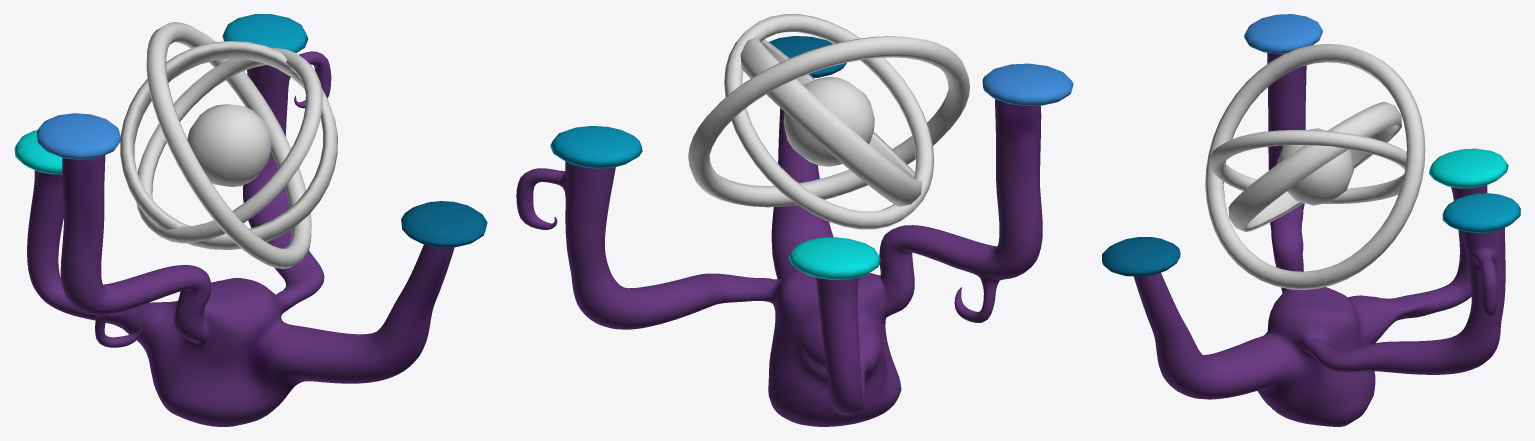
Rendered from Game_base_blockout2.fbx.
3 renders of one model, left to right at view 1: azimuth 30°, elevation 25°; view 2: azimuth 150°, elevation 25°; view 3: azimuth 270°, elevation 25°, orthographic. The views are drawn at different scales.
Visible parts, largest first — view 1: Cylinder, Torus, Quad Sphere 3, Quad Sphere; view 2: Cylinder, Torus, Quad Sphere 3, Quad Sphere; view 3: Cylinder, Torus, Quad Sphere 3, Quad Sphere.
Part boxes in pixels (left/top/right/bottom): Cylinder: left=27, top=51, right=454, bottom=426; Torus: left=120, top=22, right=337, bottom=268; Quad Sphere 3: left=14, top=14, right=487, bottom=247; Quad Sphere: left=187, top=104, right=271, bottom=186; Cylinder: left=516, top=99, right=1042, bottom=426; Torus: left=688, top=14, right=969, bottom=229; Quad Sphere 3: left=550, top=36, right=1073, bottom=279; Quad Sphere: left=783, top=77, right=874, bottom=166; Cylinder: left=1134, top=52, right=1505, bottom=426; Torus: left=1205, top=44, right=1425, bottom=289; Quad Sphere 3: left=1102, top=14, right=1520, bottom=276; Quad Sphere: left=1276, top=128, right=1353, bottom=205.
Size of the model in its own units: 6.42 by 5.77 by 6.32.
